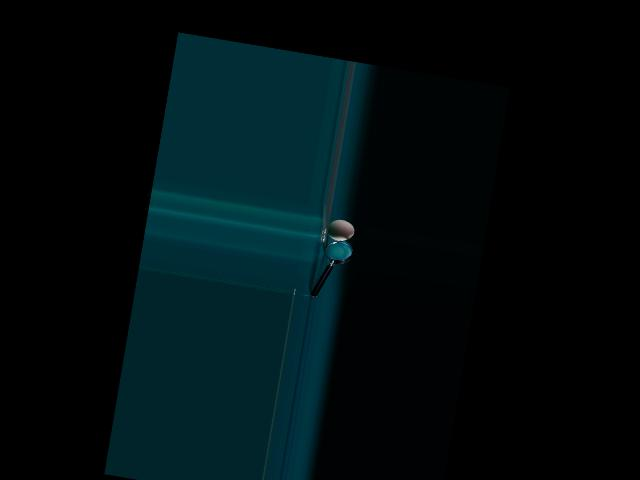egg: (326, 217, 356, 242)
